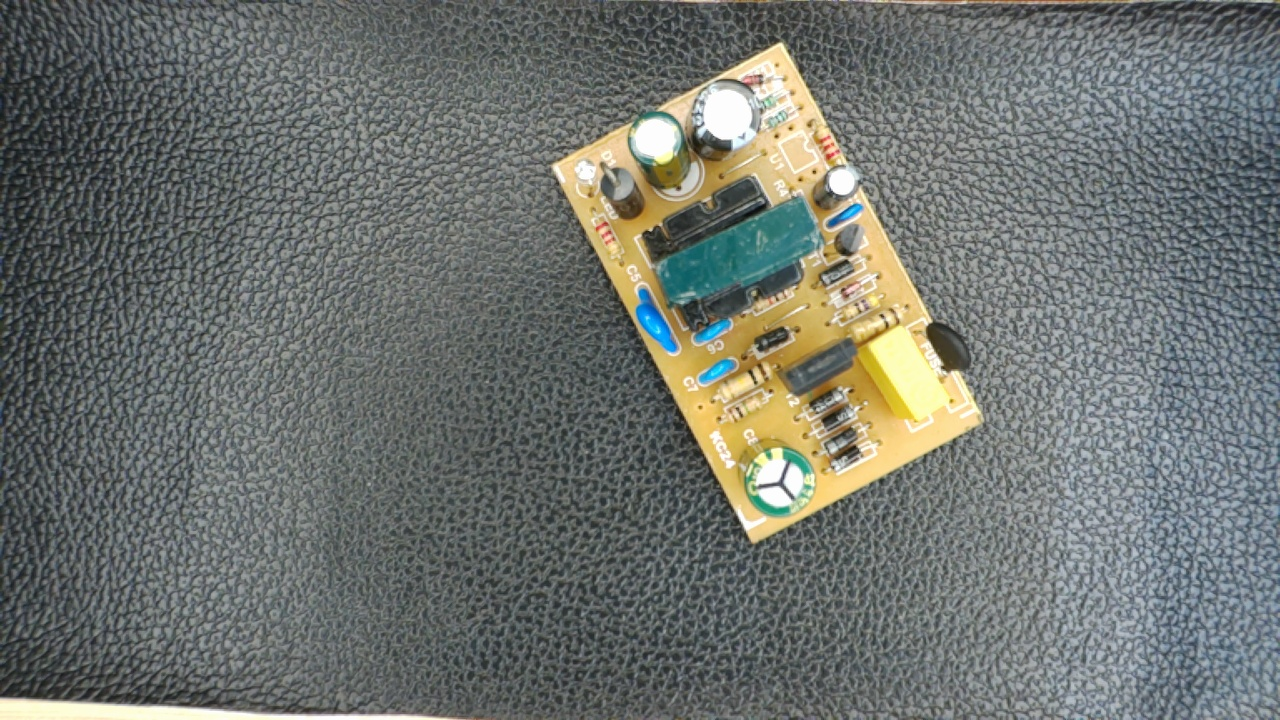fuse: (912, 320, 977, 381)
hv_capacitor: (732, 432, 819, 519)
mov: (624, 281, 686, 360)
